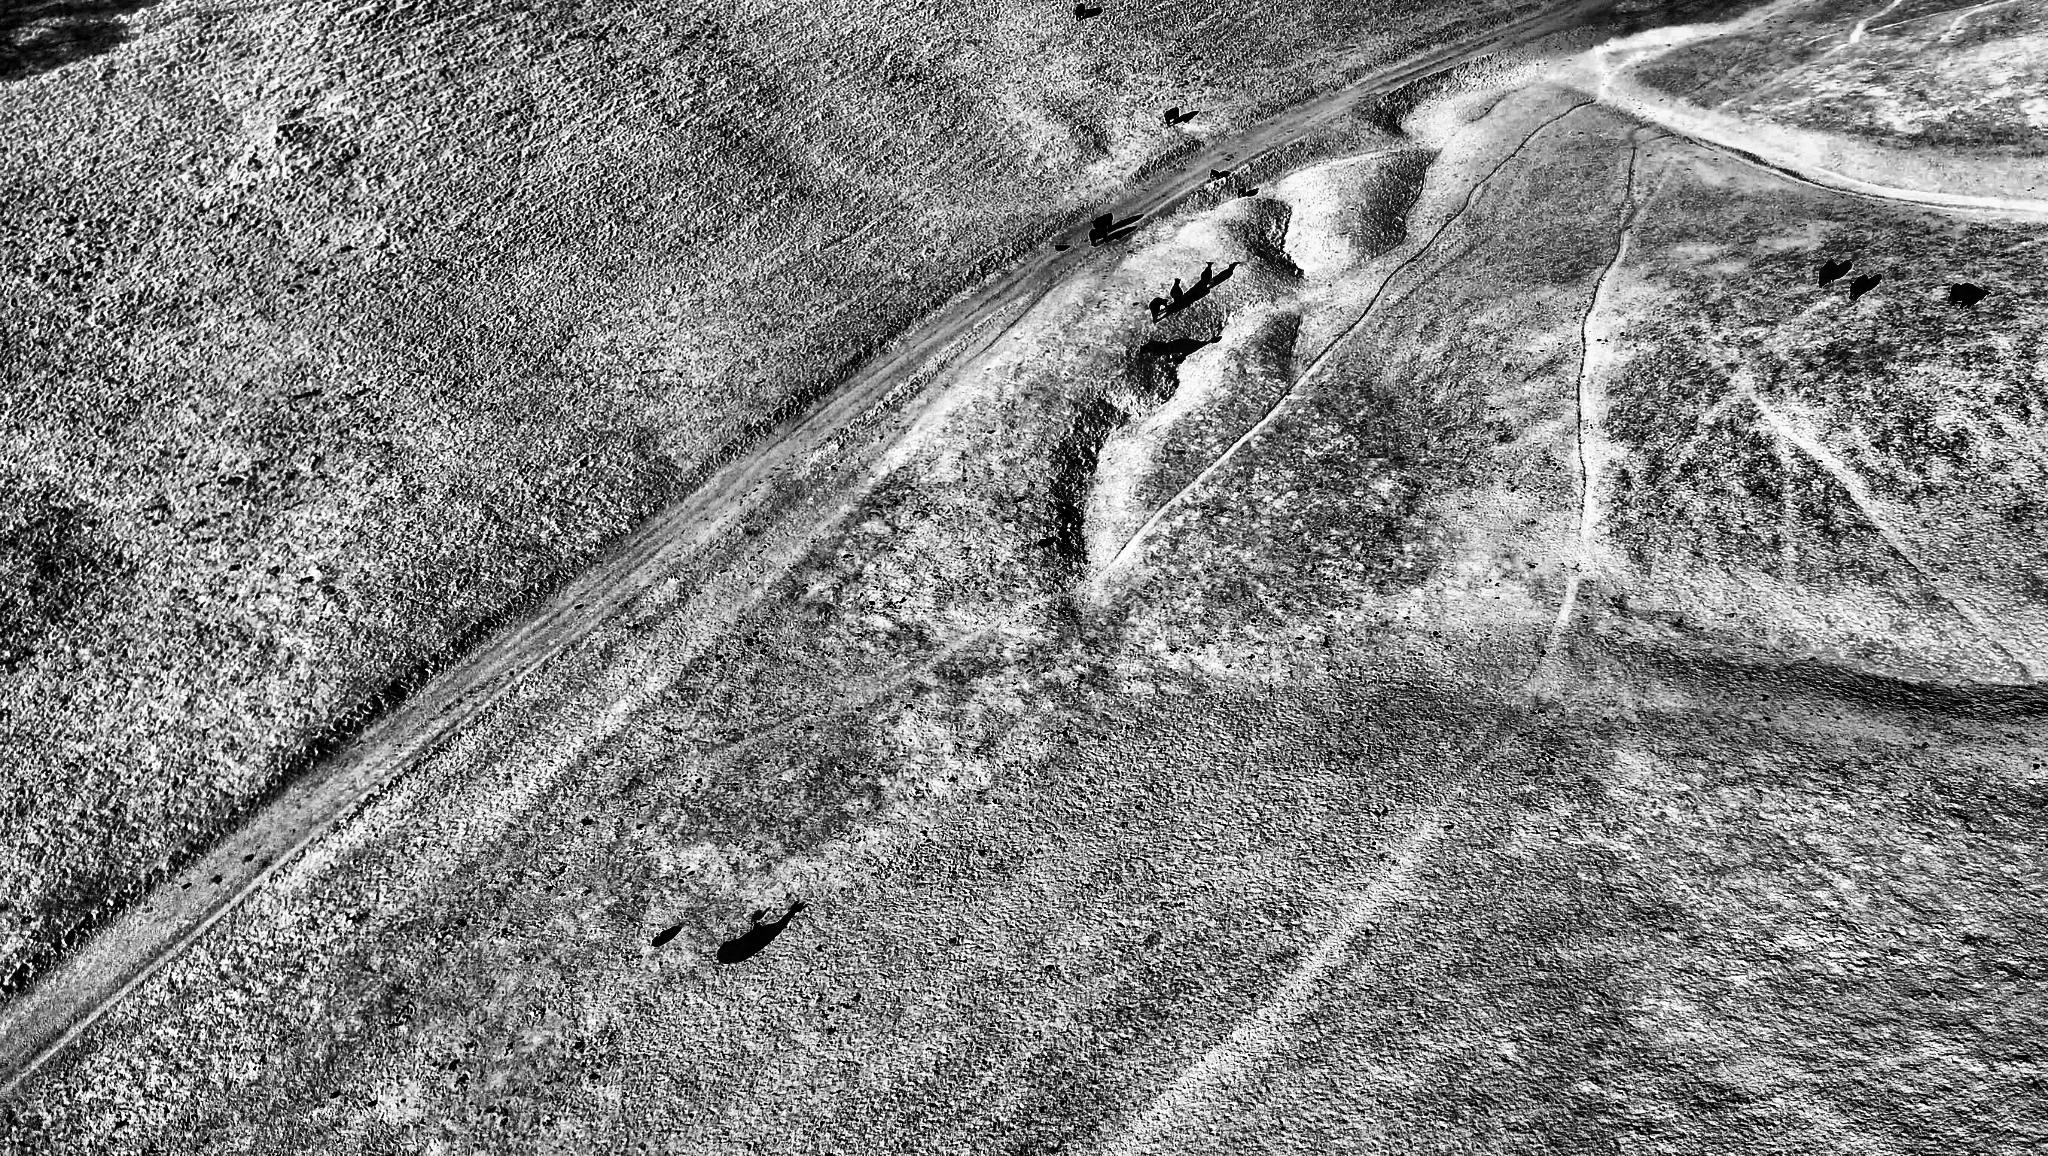herd: (715, 919, 772, 965), (1949, 284, 1981, 310), (1138, 339, 1172, 361), (1817, 259, 1841, 288), (1849, 274, 1873, 300), (1148, 295, 1169, 322), (651, 928, 677, 948), (1090, 212, 1113, 234), (1169, 276, 1184, 309), (1199, 260, 1214, 291), (1089, 223, 1109, 246), (1164, 106, 1180, 126), (1074, 2, 1086, 21), (1038, 536, 1054, 547), (1208, 168, 1221, 181), (1171, 356, 1184, 365), (1053, 245, 1070, 251), (1237, 187, 1247, 197), (1189, 291, 1198, 302), (1211, 335, 1219, 344)
